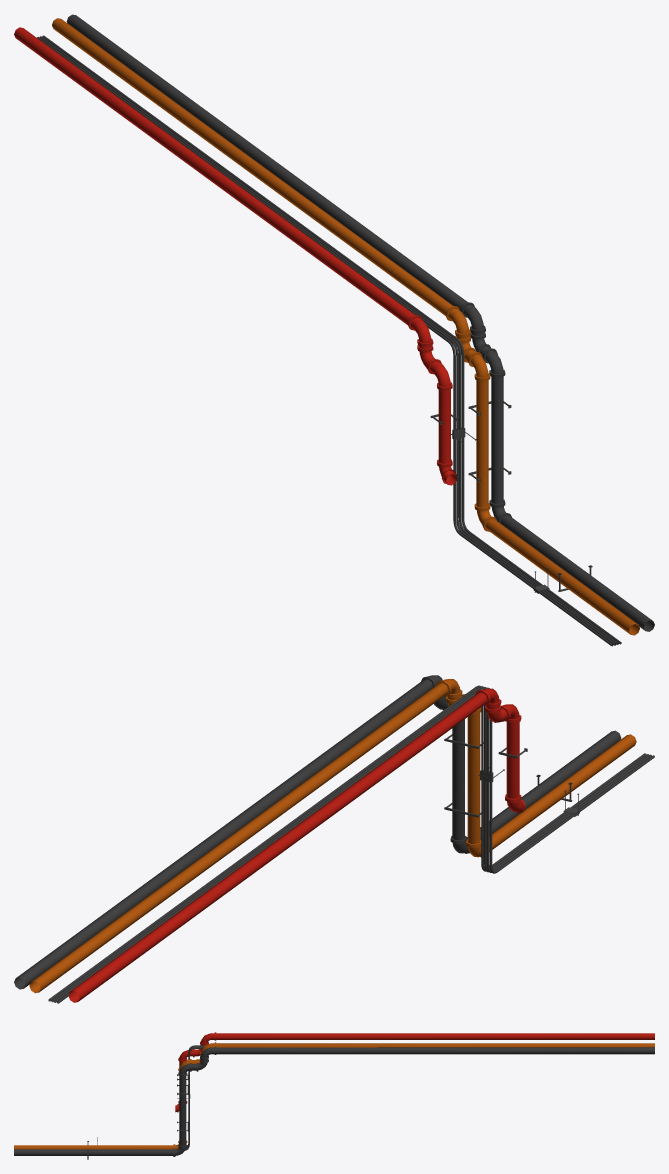
The model's file is SM_H_Building_Tide_DeepJail_03e_ATLAS.fbx.
The picture shows the model from 3 angles, top to bottom: view 1: azimuth 30°, elevation 25°; view 2: azimuth 150°, elevation 25°; view 3: azimuth 270°, elevation 25°; orthographic projection. The views are drawn at different scales.
Parts seen in each view (by area): view 1: SM_H_Building_Tide_DeepJail_03e_ATLAS; view 2: SM_H_Building_Tide_DeepJail_03e_ATLAS; view 3: SM_H_Building_Tide_DeepJail_03e_ATLAS.
Part boxes in pixels (x1=…): SM_H_Building_Tide_DeepJail_03e_ATLAS: x1=14, y1=14, x2=654, y2=646; SM_H_Building_Tide_DeepJail_03e_ATLAS: x1=14, y1=675, x2=654, y2=1003; SM_H_Building_Tide_DeepJail_03e_ATLAS: x1=14, y1=1032, x2=654, y2=1159.
Size of the model in its own units: 263 by 3690 by 715.
